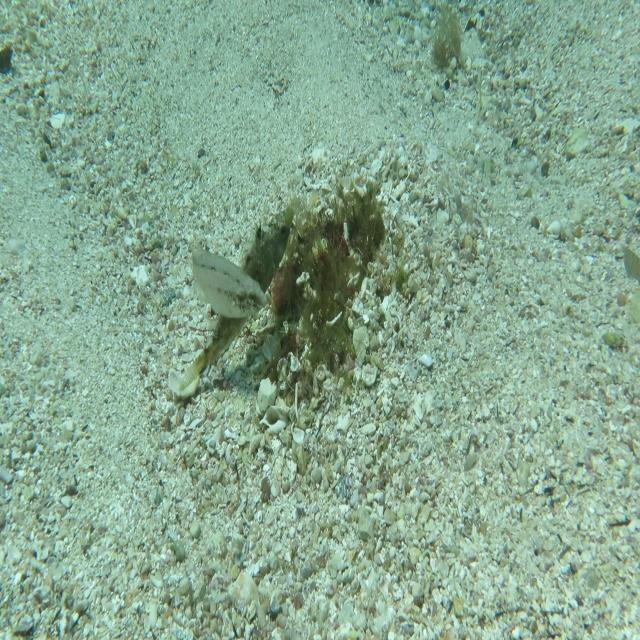FAN: (179, 205, 295, 390)
core_nest: (322, 200, 381, 258)
female: (191, 238, 268, 320)
nest: (263, 161, 407, 402)
